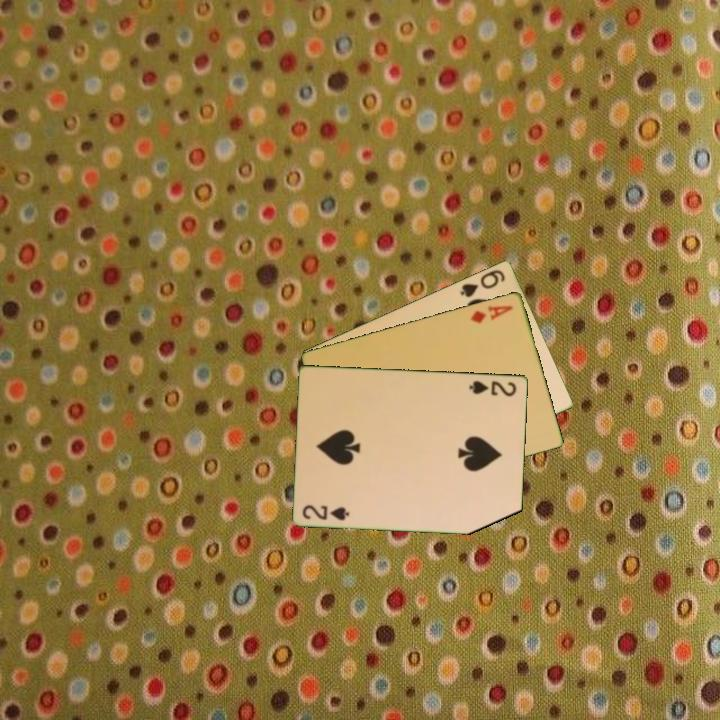2s: (466, 377, 519, 399), (299, 501, 352, 523)
6s: (457, 266, 508, 300)
Ad: (467, 302, 516, 326)
